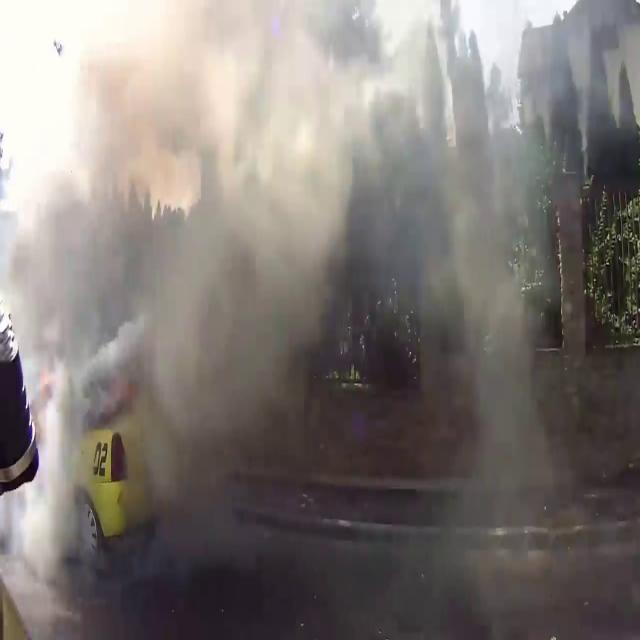Smoke: (0, 0, 592, 550)
